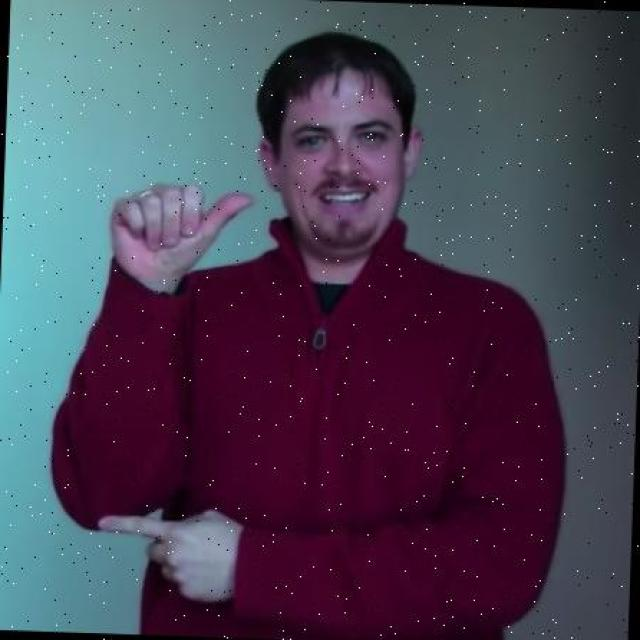A: (104, 179, 259, 282)
